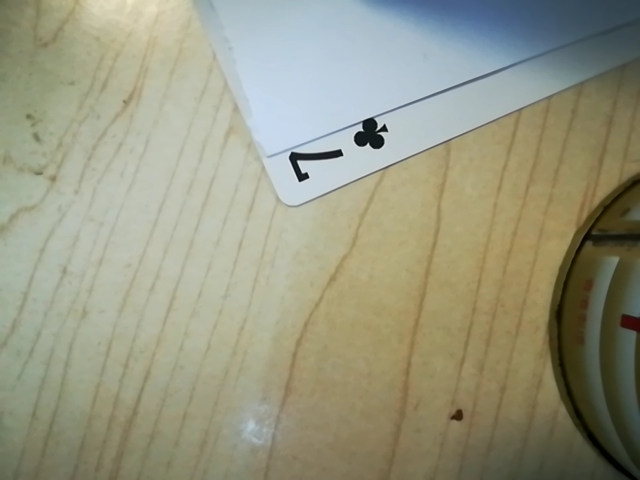mh 7: (275, 115, 399, 190)
